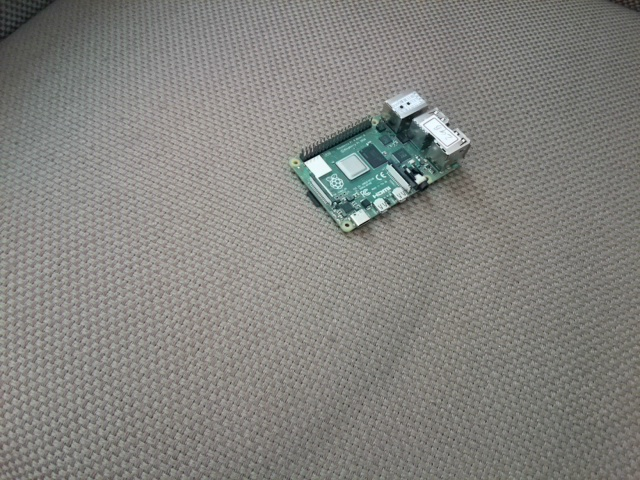Pi4: (285, 86, 474, 238)
